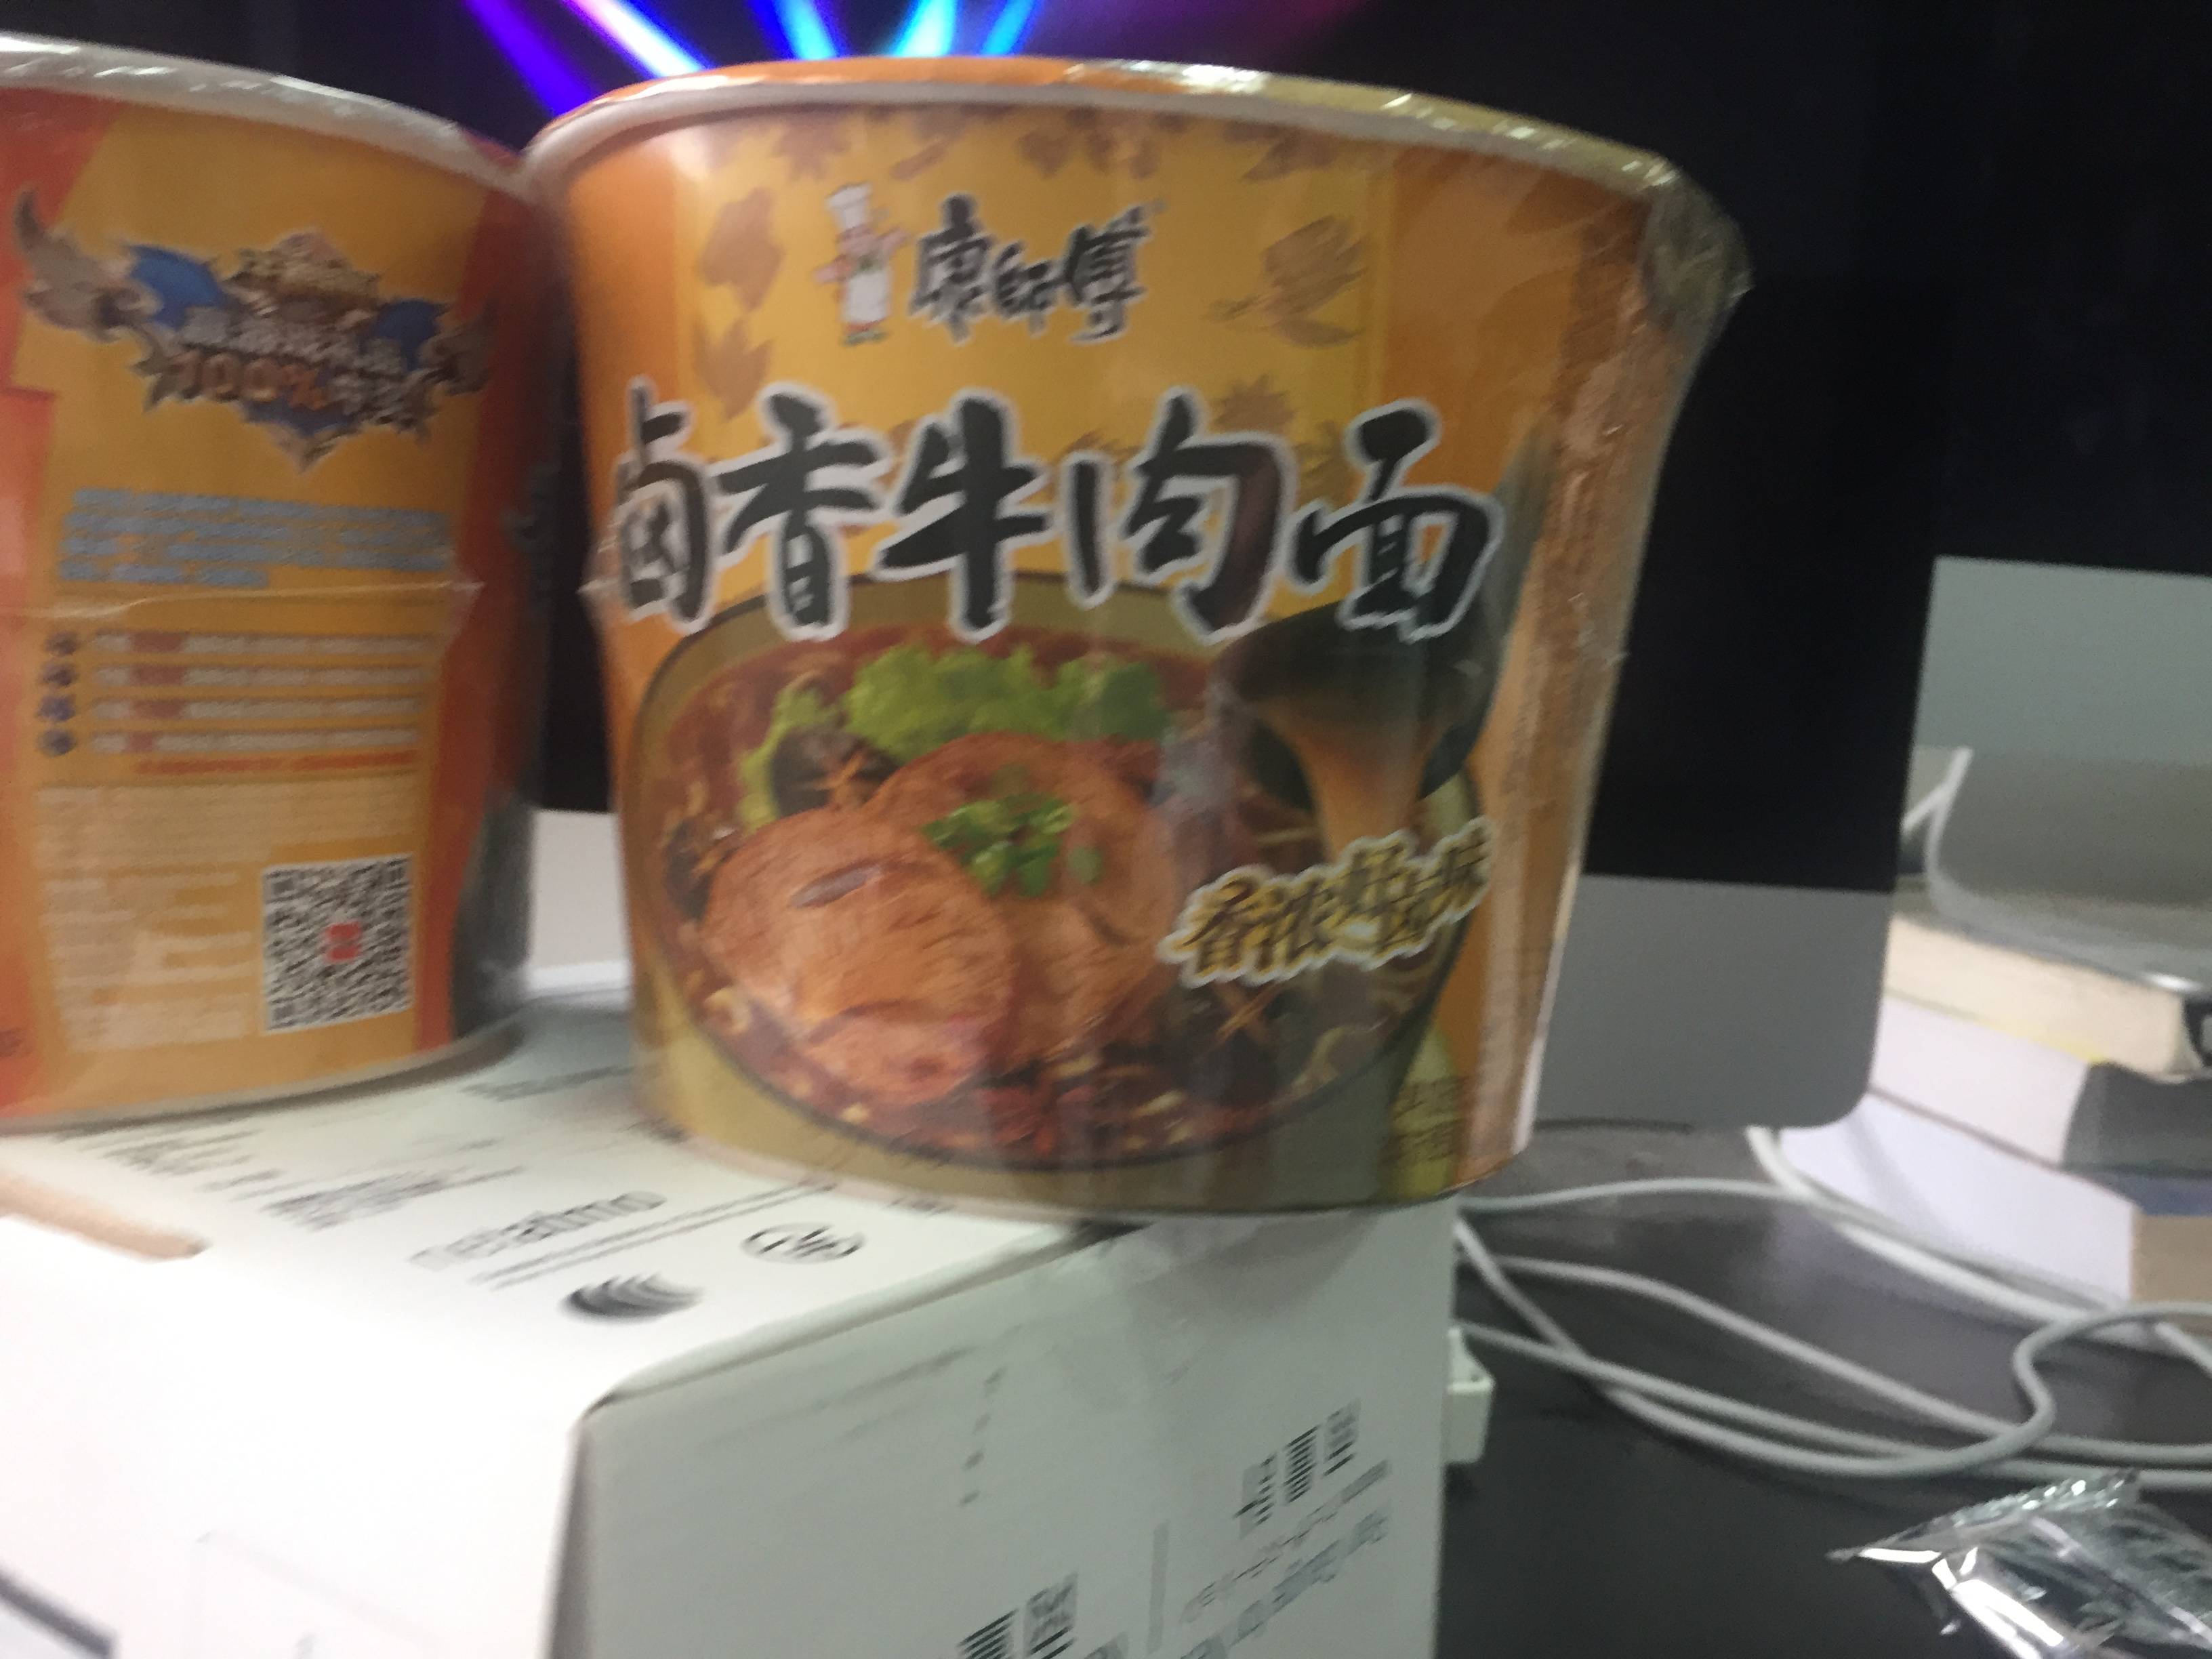luxiang: (498, 56, 1759, 1227)
